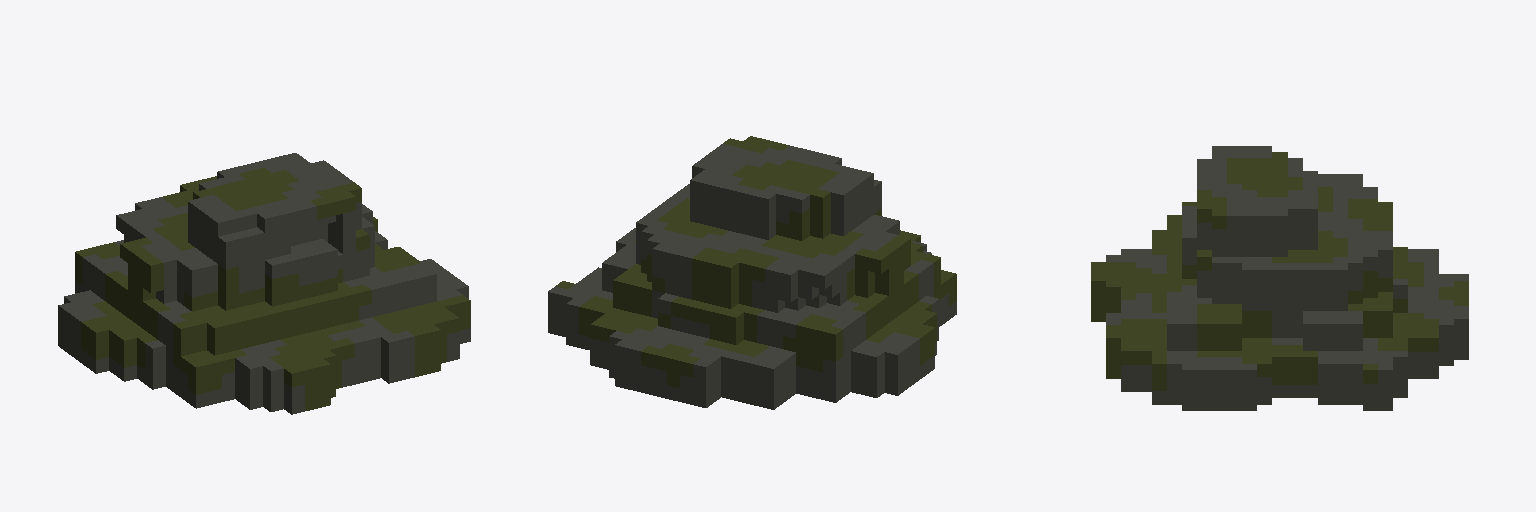
The picture shows the model from 3 angles: view 1: azimuth 30°, elevation 25°; view 2: azimuth 150°, elevation 25°; view 3: azimuth 270°, elevation 25°; orthographic projection.
Visible parts, largest first — view 1: object 1; view 2: object 1; view 3: object 1.
Part boxes in pixels (bbox=[...]): object 1: bbox=[58, 153, 470, 414]; object 1: bbox=[548, 136, 956, 409]; object 1: bbox=[1091, 146, 1468, 410].
Size of the model in its own units: 2.5 by 1.1 by 2.5.
Materials: 1 (1 with a texture image).